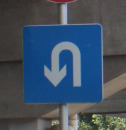u_turn: (22, 23, 103, 103)
